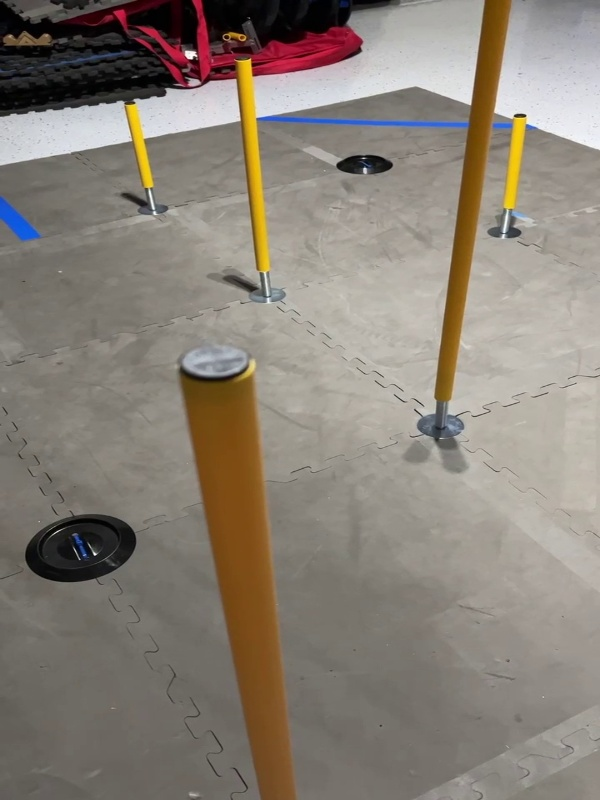top: (171, 341, 258, 385)
